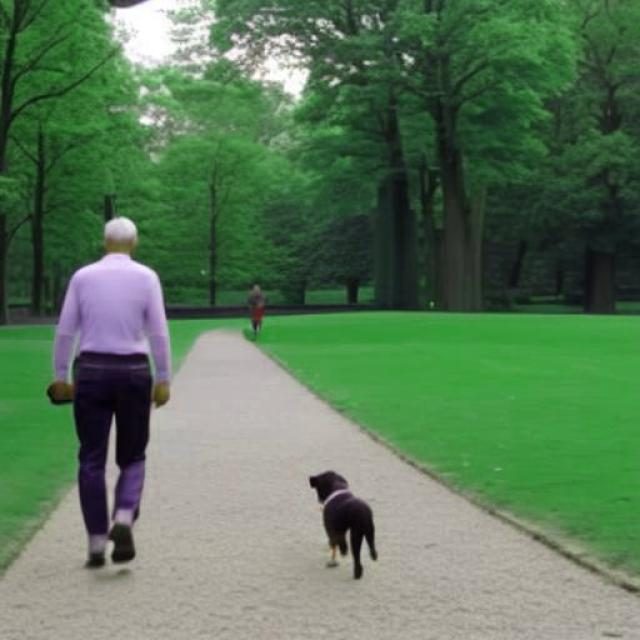Unleashed_Dog: (70, 351, 380, 578)
